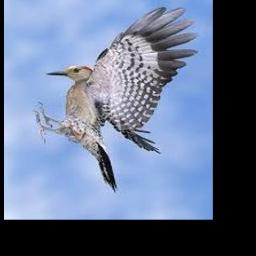Woodpecker: (33, 7, 198, 192)
